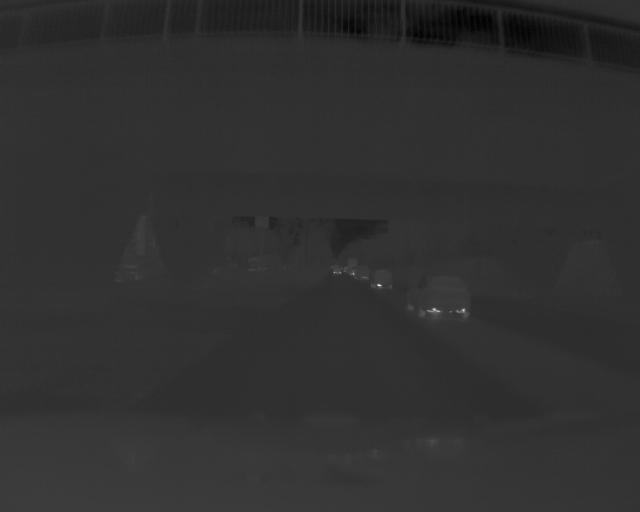car: (404, 274, 474, 320)
